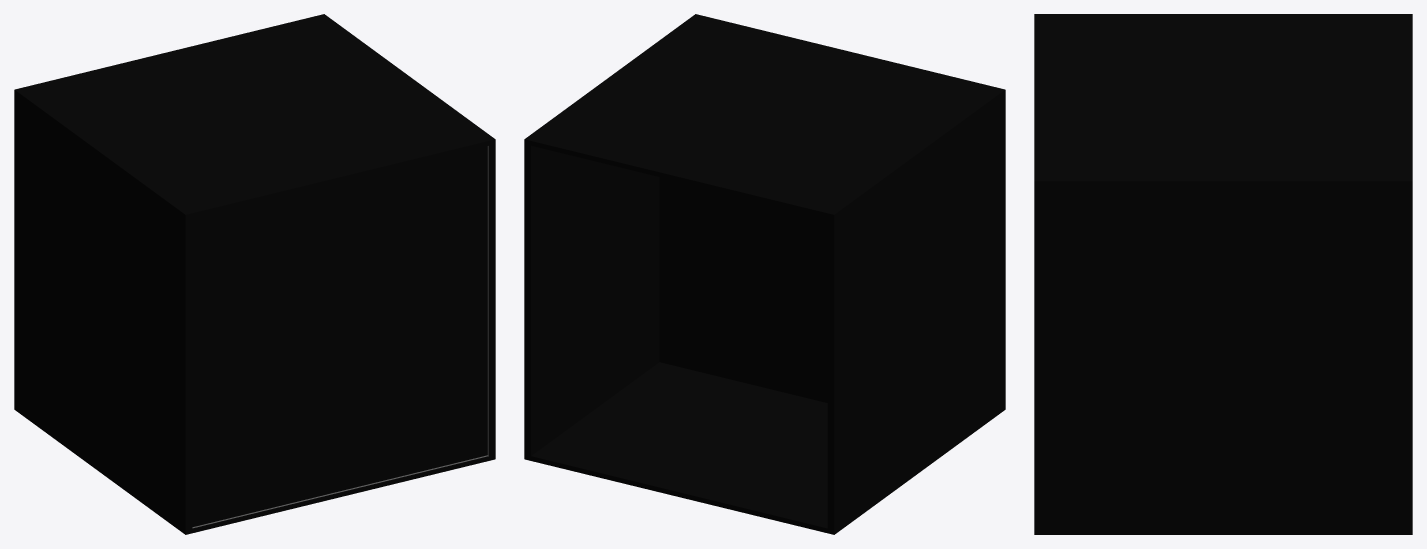
Rendered from frameMinimalist.glb.
3 renders of one model, left to right at view 1: azimuth 30°, elevation 25°; view 2: azimuth 150°, elevation 25°; view 3: azimuth 270°, elevation 25°, orthographic. The views are drawn at different scales.
Visible parts, largest first — view 1: Material2, A_PaintingMesh, Material3.001; view 2: Material2, Material3.004; view 3: Material2.
Boxes of the visible parts, bbox=[...] form: Material2: bbox=[14, 14, 495, 534]; A_PaintingMesh: bbox=[192, 146, 487, 527]; Material3.001: bbox=[192, 146, 488, 528]; Material2: bbox=[524, 14, 1005, 534]; Material3.004: bbox=[531, 146, 827, 528]; Material2: bbox=[1034, 14, 1412, 534].
Size of what is drawn, in the model's own units: 1.05 by 1.03 by 1.
Materials: 5 (1 with a texture image).
